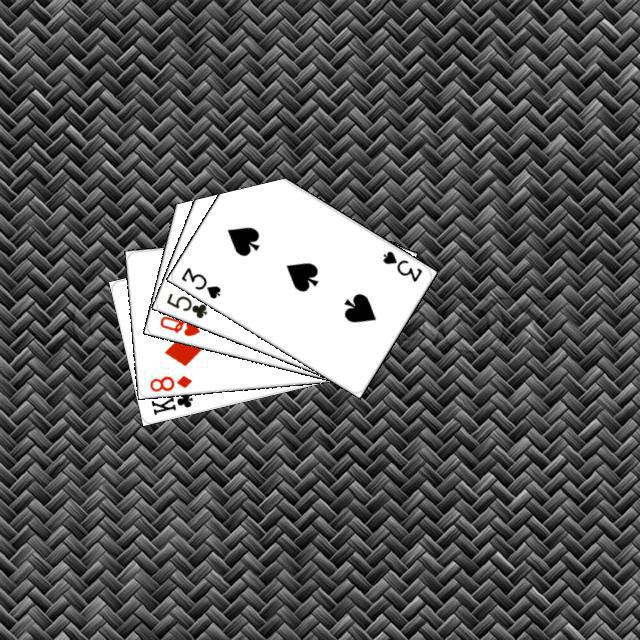3s: (176, 263, 223, 301), (378, 246, 424, 284)
5c: (161, 288, 209, 320)
8d: (145, 371, 193, 393)
Kc: (146, 383, 197, 417)
Qh: (155, 311, 202, 338)
